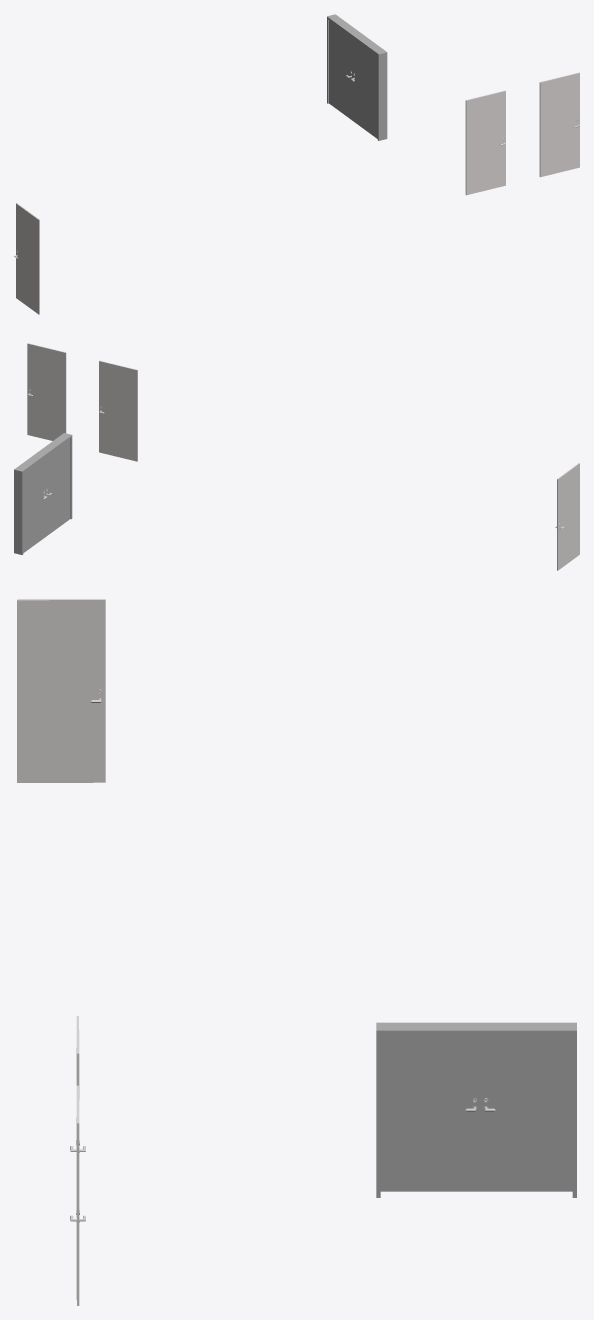
Rendered from SW_corridor__R_lobby_R_Aula_Ovi_030.FBX.
3 renders of one model, top to bottom at view 1: azimuth 30°, elevation 25°; view 2: azimuth 150°, elevation 25°; view 3: azimuth 270°, elevation 25°, orthographic. The views are drawn at different scales.
Visible parts, largest first — view 1: SW_corridor__R_lobby_R_Aula_Ovi_030; view 2: SW_corridor__R_lobby_R_Aula_Ovi_030; view 3: SW_corridor__R_lobby_R_Aula_Ovi_030.
Boxes of the visible parts, left/top/right/bottom form: SW_corridor__R_lobby_R_Aula_Ovi_030: left=14, top=14, right=579, bottom=314; SW_corridor__R_lobby_R_Aula_Ovi_030: left=14, top=343, right=579, bottom=570; SW_corridor__R_lobby_R_Aula_Ovi_030: left=17, top=599, right=576, bottom=1305.
Bounding box in the file's own units: 1268 × 569 × 205.
